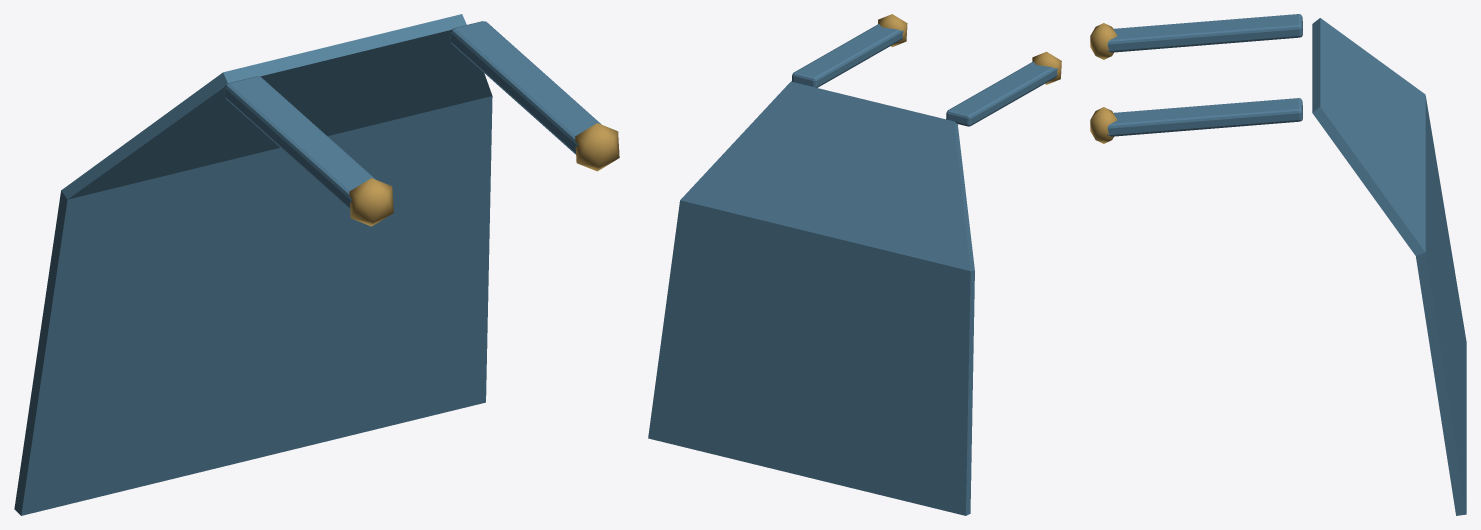
The model's file is cape_royal_blue.glb.
3 views of the same model, side by side, from view 1: azimuth 30°, elevation 25°; view 2: azimuth 150°, elevation 25°; view 3: azimuth 270°, elevation 25° (orthographic). The views are drawn at different scales.
Visible parts, largest first — view 1: cape_royal_blue; view 2: cape_royal_blue; view 3: cape_royal_blue.
Part boxes in pixels (bbox=[...]): cape_royal_blue: bbox=[14, 14, 619, 515]; cape_royal_blue: bbox=[648, 14, 1061, 515]; cape_royal_blue: bbox=[1090, 14, 1466, 515].
Size of the model in its own units: 0.7 by 0.694 by 0.643.
